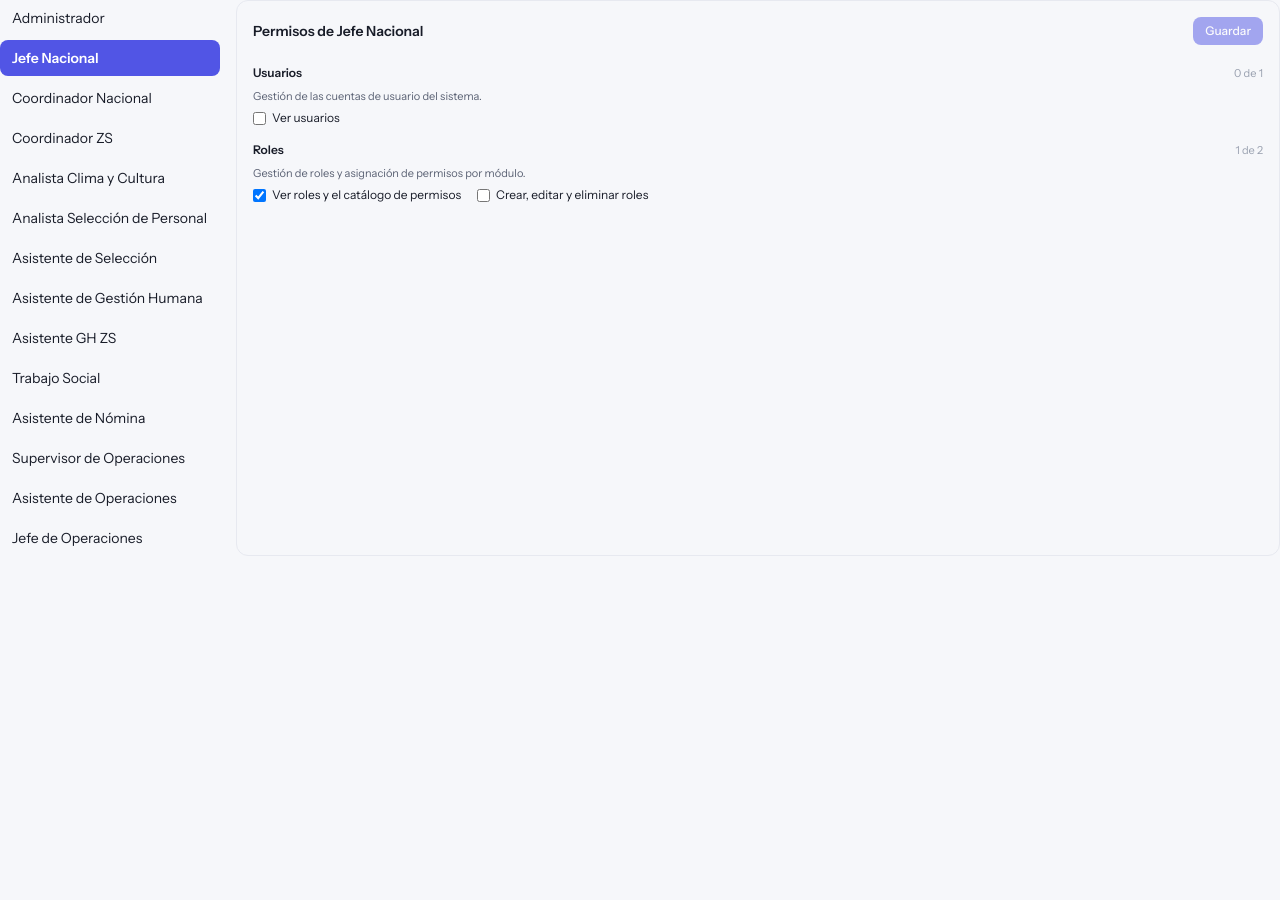
Test: RolesPermissionsManager › flujo de guardado: dirty-check habilita Guardar, el modal confirma el conteo y el PATCH envía el set completo
The width and height of the screenshot is (1280, 900).
Expected: the heading "Permisos de Jefe Nacional" is shown, top-left (253, 21), bottom-right (424, 41)
Expected: the button "Guardar" is disabled, top-left (1193, 17), bottom-right (1263, 45)
Click the checkbox labelled "Crear, editar y eliminar roles": point(484, 195) top-left (477, 188), bottom-right (490, 202)
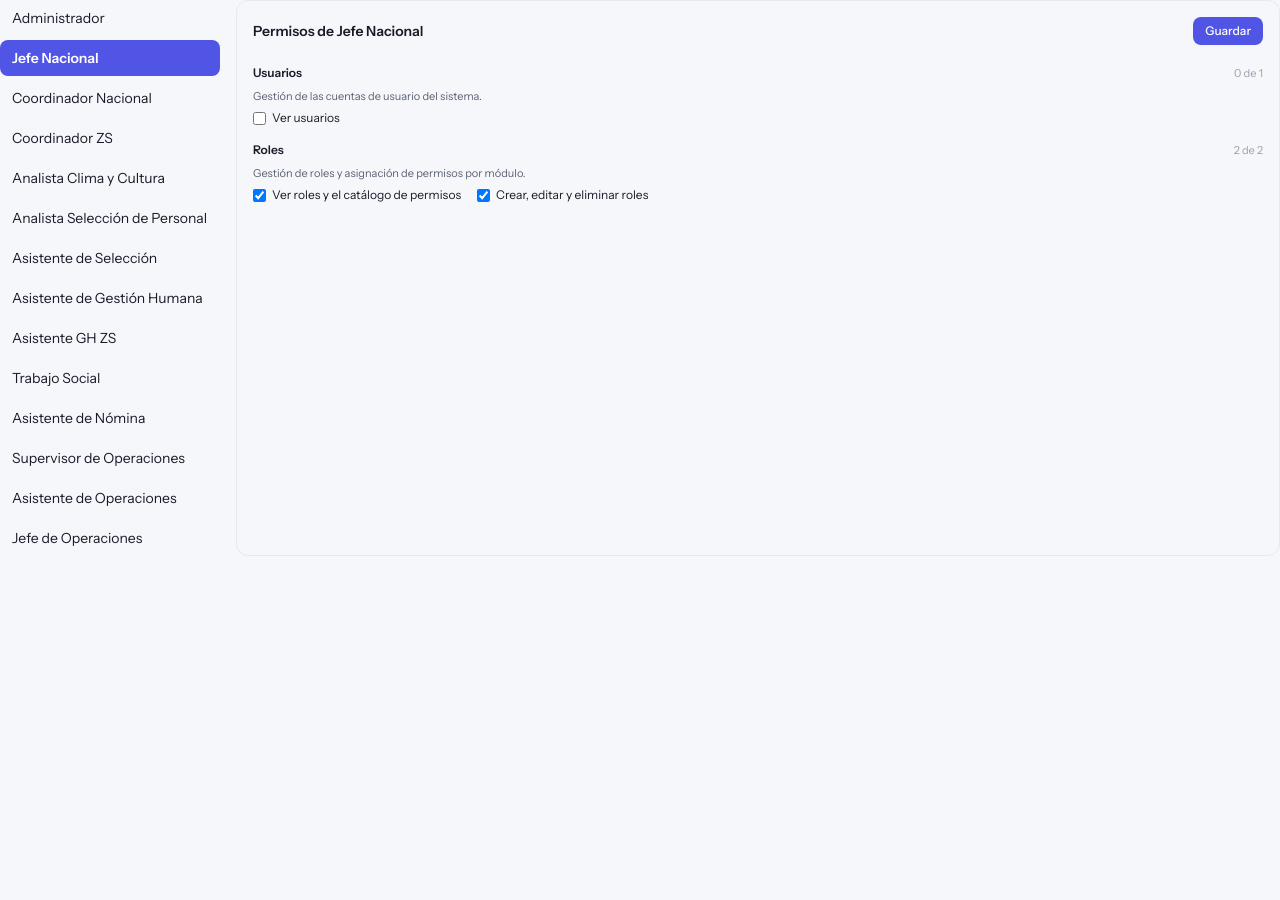
Now the button "Guardar" is enabled
Click the button "Guardar": point(1228, 31) top-left (1193, 17), bottom-right (1263, 45)
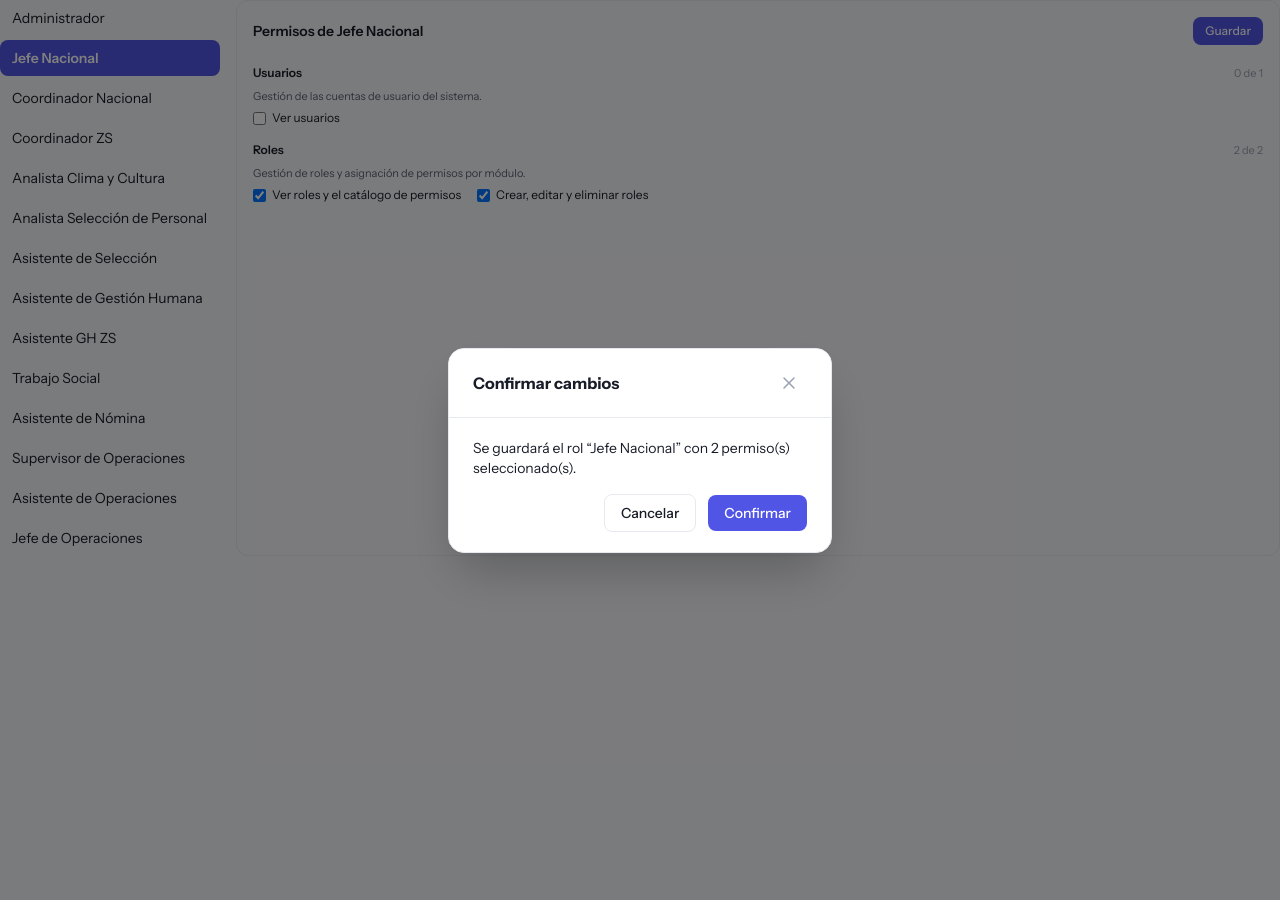
Now the heading "Confirmar cambios" is shown, box top-left (473, 370), bottom-right (619, 394)
Now the text "con 2 permiso(s)" is shown, box top-left (473, 438), bottom-right (807, 478)
Click the button "Confirmar": point(758, 512) top-left (708, 494), bottom-right (807, 530)
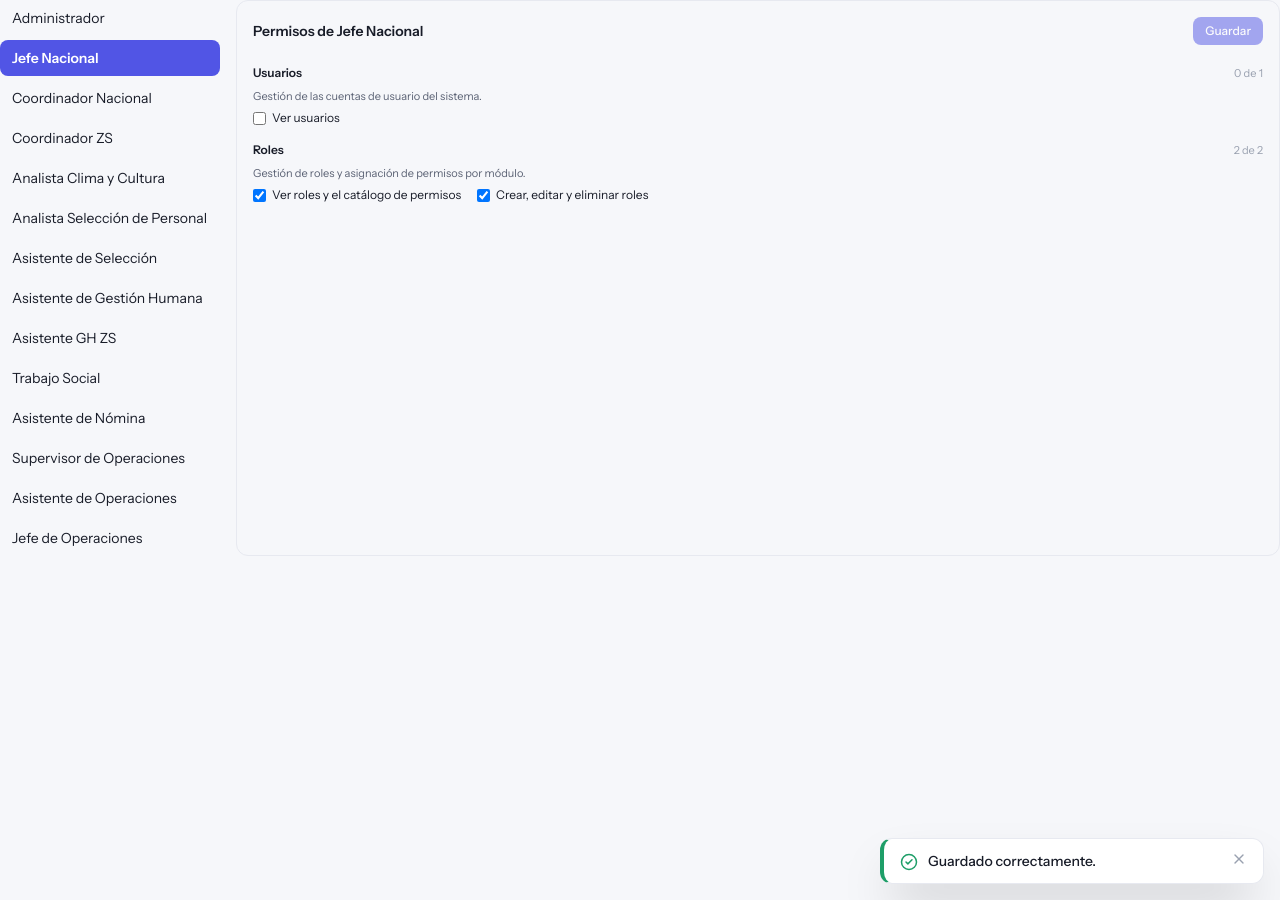
Now the text "Guardado correctamente." is shown, box top-left (928, 852), bottom-right (1096, 870)
